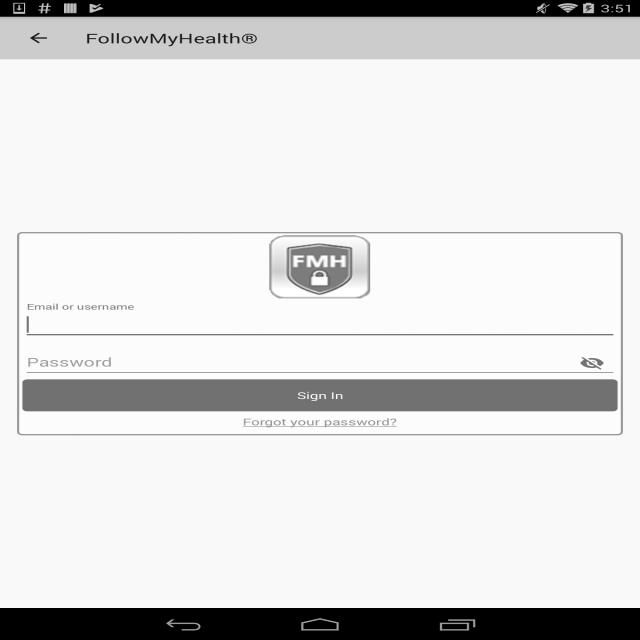Button: (22, 379, 618, 412)
EditText: (22, 310, 618, 340), (22, 348, 618, 378)
ImageButton: (9, 17, 68, 59), (566, 348, 618, 380)
ImageView: (269, 236, 370, 298)
TextView: (236, 411, 403, 432), (85, 29, 258, 47)
